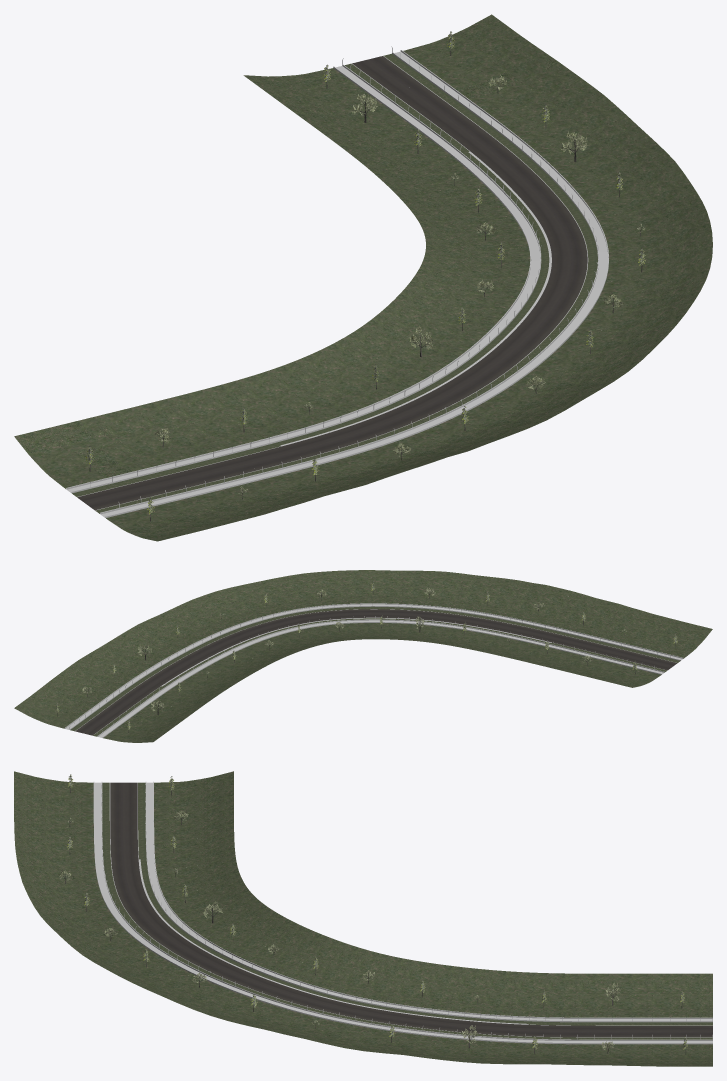
3 views of the same model, one above another, from view 1: azimuth 30°, elevation 25°; view 2: azimuth 150°, elevation 25°; view 3: azimuth 270°, elevation 25° (orthographic). The views are drawn at different scales.
Parts seen in each view (by area): view 1: Grass, Road, Track, Trees; view 2: Grass, Road, Track, Trees; view 3: Grass, Road, Track, Trees.
Part boxes in pixels (<box>): Grass: <box>14,14,712,541</box>; Road: <box>77,56,587,510</box>; Track: <box>66,46,608,517</box>; Trees: <box>85,31,645,521</box>; Grass: <box>14,570,712,742</box>; Road: <box>75,609,677,735</box>; Track: <box>64,603,683,737</box>; Trees: <box>55,581,677,732</box>; Grass: <box>14,771,712,1066</box>; Road: <box>110,782,712,1037</box>; Track: <box>93,781,712,1044</box>; Trees: <box>58,774,687,1054</box>.
Size of what is drawn, in the model's own units: 44500 by 2169 by 44500.
